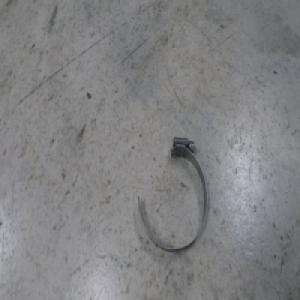AdjustableClamp: (137, 135, 207, 252)
